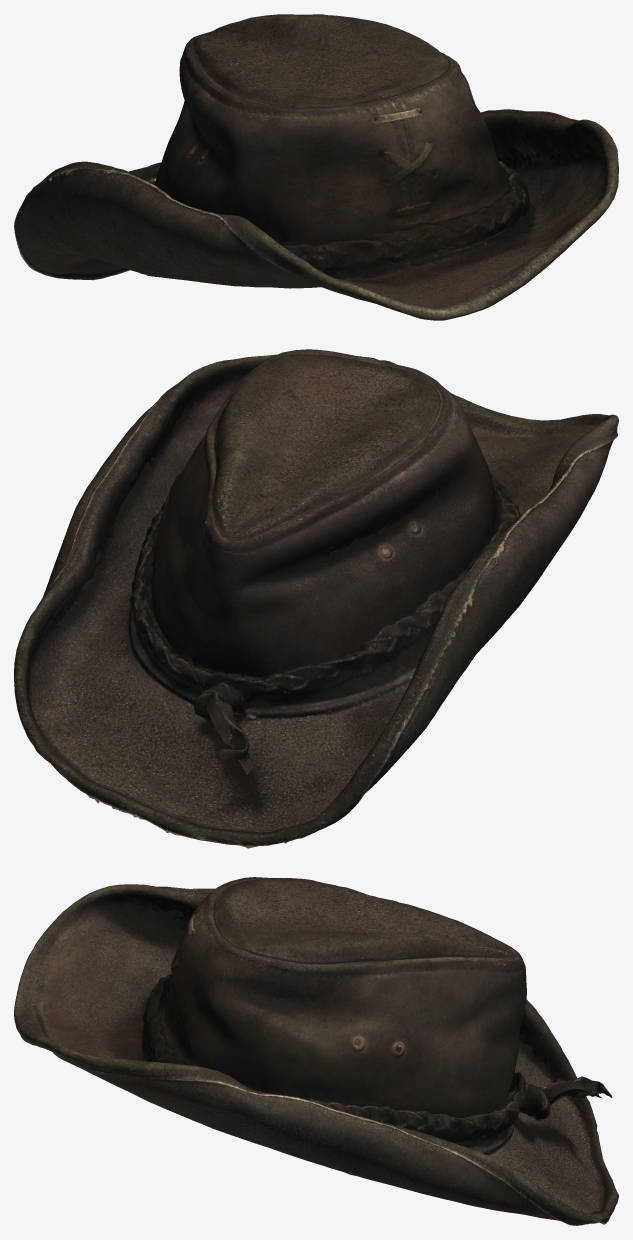
File: hat-web-v2.glb
3 views of the same model, one above another, from view 1: azimuth 30°, elevation 25°; view 2: azimuth 150°, elevation 25°; view 3: azimuth 270°, elevation 25° (orthographic). The views are drawn at different scales.
Visible parts, largest first — view 1: Cowboy_Hat; view 2: Cowboy_Hat; view 3: Cowboy_Hat.
Boxes of the visible parts, <box> form: Cowboy_Hat: <box>14,14,618,320</box>; Cowboy_Hat: <box>14,349,618,848</box>; Cowboy_Hat: <box>14,877,618,1225</box>.
Bounding box in the file's own units: 2.44 × 1.7 × 3.16.
1 material, 1 textured.
